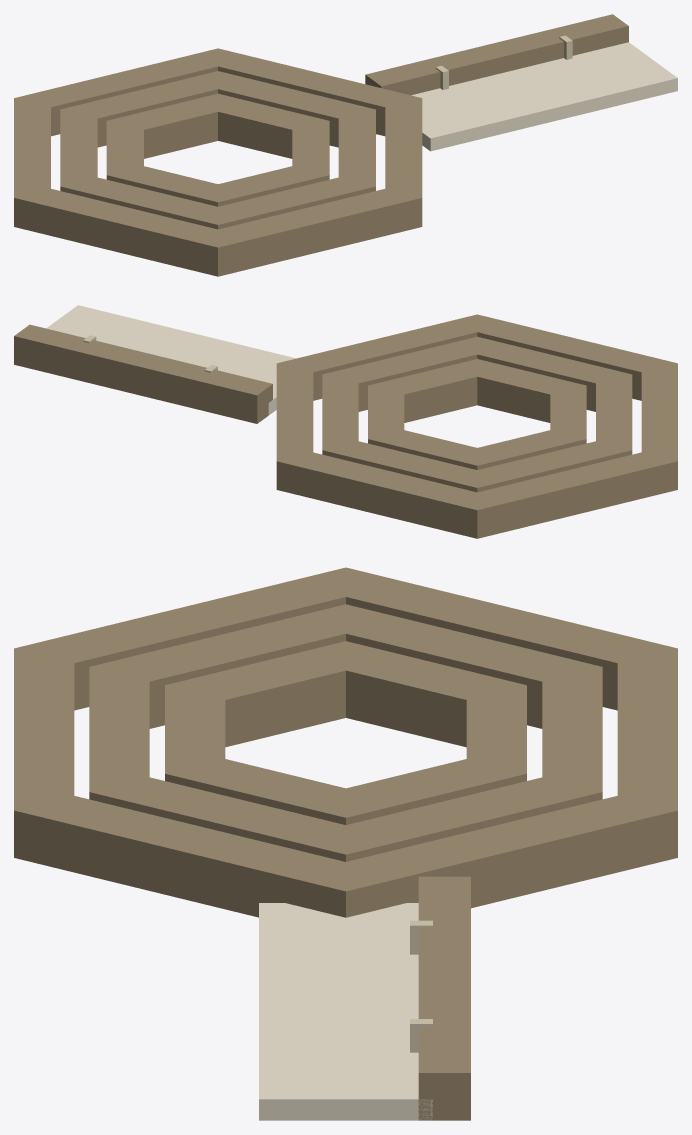
The model's file is prop-bolt-rope-coil.fbx.
3 views of the same model, one above another, from view 1: azimuth 30°, elevation 25°; view 2: azimuth 150°, elevation 25°; view 3: azimuth 270°, elevation 25° (orthographic). The views are drawn at different scales.
Parts seen in each view (by area): view 1: prop-bolt-rope-coil; view 2: prop-bolt-rope-coil; view 3: prop-bolt-rope-coil.
Boxes of the visible parts, <box> form: prop-bolt-rope-coil: <box>14,14,677,276</box>; prop-bolt-rope-coil: <box>14,305,677,538</box>; prop-bolt-rope-coil: <box>14,567,677,1120</box>.
Bounding box in the file's own units: 41.2 × 2 × 22.86.
